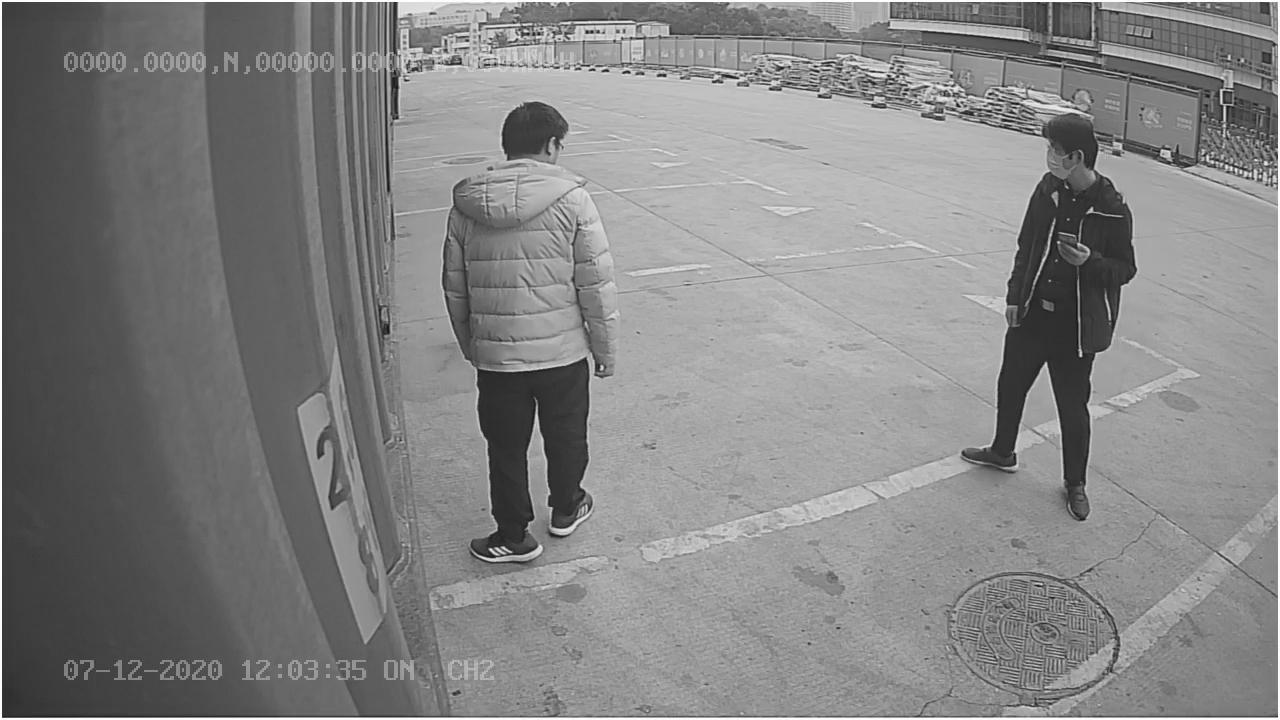person: (441, 103, 623, 556), (953, 102, 1137, 522)
